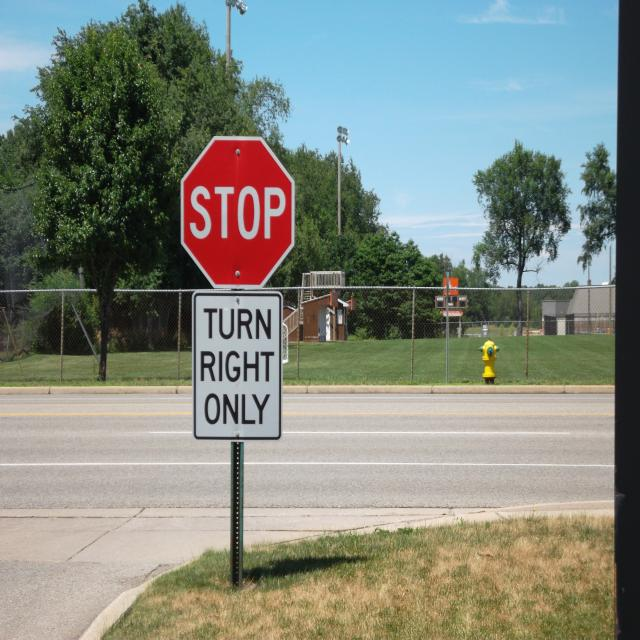regulatory: (190, 286, 284, 444)
stop: (177, 133, 299, 293)
